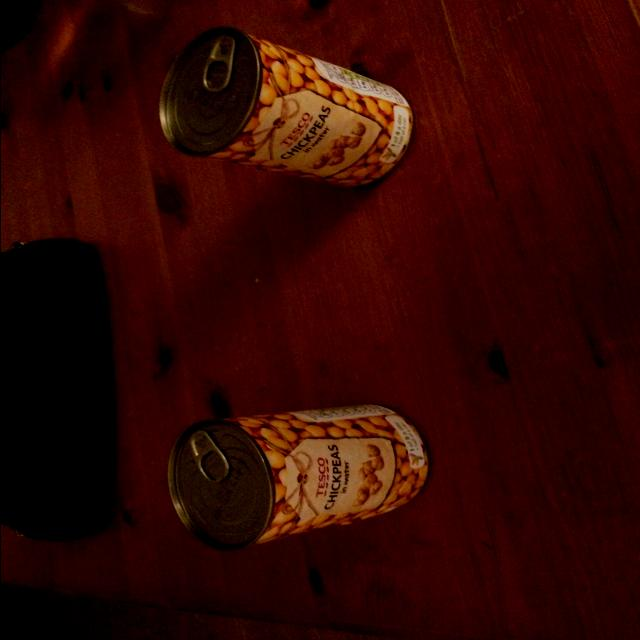Food Can: (158, 27, 413, 187), (167, 404, 427, 551)
Pop tab: (188, 429, 228, 483), (199, 35, 234, 92)
